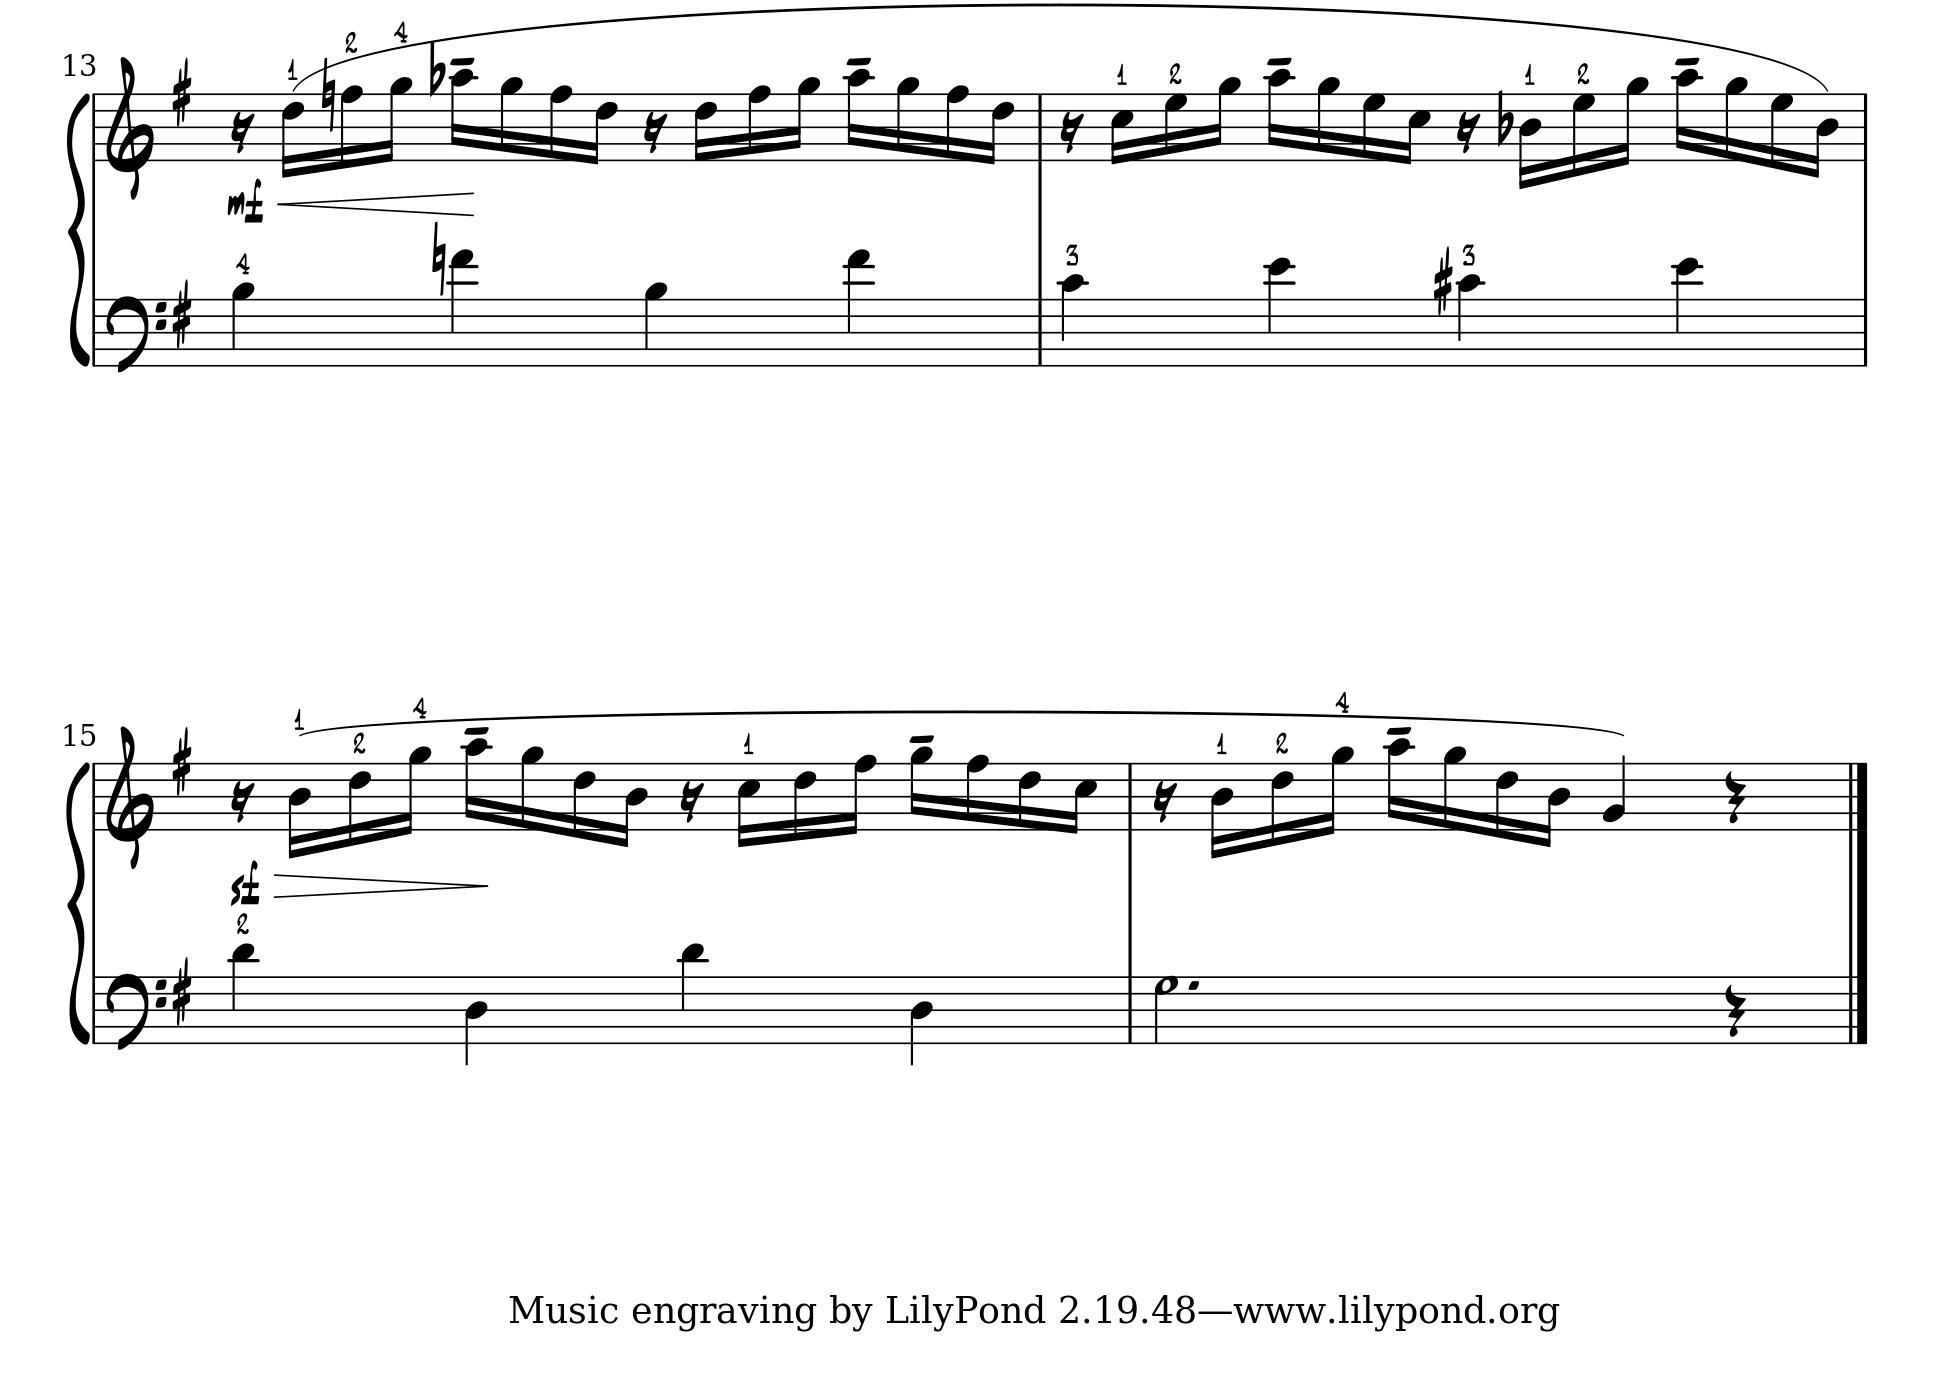1: (1116, 61, 1132, 88), (61, 720, 76, 748), (61, 49, 75, 78), (1522, 61, 1537, 85), (741, 730, 754, 753), (292, 706, 304, 730), (286, 57, 298, 79)
16_10: (448, 67, 477, 163), (844, 67, 873, 163), (462, 736, 490, 832), (1674, 66, 1701, 163), (1266, 67, 1293, 163), (1386, 736, 1413, 832)
16_4: (1809, 90, 1839, 178), (1540, 760, 1570, 849), (618, 760, 648, 847), (286, 759, 312, 859), (1209, 760, 1234, 859), (1518, 90, 1542, 192)
16_5: (1065, 760, 1098, 835), (733, 760, 760, 849), (1399, 91, 1431, 166), (1108, 91, 1134, 166)
16_6: (586, 91, 618, 166), (1269, 759, 1294, 849), (346, 760, 372, 849), (984, 91, 1014, 166), (279, 91, 304, 178), (792, 759, 817, 843), (1494, 759, 1519, 843), (691, 90, 718, 163), (571, 760, 595, 843), (1017, 759, 1041, 832)
16_7: (1570, 88, 1596, 180), (1768, 88, 1794, 174), (1162, 88, 1188, 163), (1360, 90, 1386, 163)
16_8: (843, 753, 876, 835), (339, 84, 364, 169), (547, 82, 573, 163), (745, 82, 771, 163), (943, 84, 969, 163), (964, 753, 990, 832)
16_9: (1615, 73, 1650, 169), (397, 744, 430, 837), (1320, 744, 1353, 837), (379, 75, 412, 163), (1209, 73, 1240, 163), (787, 75, 819, 163), (894, 73, 919, 163), (1723, 73, 1747, 165), (1441, 744, 1465, 835), (498, 73, 522, 163), (1315, 73, 1339, 163), (519, 742, 543, 832), (907, 744, 931, 832)
2: (1165, 58, 1185, 90), (234, 912, 252, 934), (351, 730, 367, 754), (1576, 60, 1591, 85), (343, 30, 358, 54), (1275, 730, 1290, 754), (1215, 730, 1228, 754)
2_7: (1153, 973, 1179, 1044)
3: (1461, 241, 1479, 267), (79, 49, 96, 76)
4: (1335, 688, 1353, 712), (412, 694, 427, 718), (393, 19, 409, 40)
4_10: (1057, 271, 1089, 370), (1455, 273, 1483, 369)
4_11: (678, 940, 706, 1047), (229, 942, 256, 1045)
4_12: (1671, 256, 1704, 369), (1263, 256, 1294, 370)
4_13: (843, 249, 873, 370), (448, 250, 475, 370)
4_2: (1602, 754, 1627, 832)
4_4: (909, 973, 934, 1065), (463, 973, 487, 1065)
4_9: (229, 280, 255, 367), (643, 280, 667, 369)
5: (79, 720, 96, 747)
Brace: (64, 760, 90, 1045), (66, 87, 90, 367)
Diminuendo_hairpin: (271, 871, 489, 898)
Fclef: (103, 292, 166, 376), (103, 970, 166, 1053)
Final_barline: (1843, 760, 1870, 829), (1842, 975, 1869, 1042)
Flat: (427, 39, 445, 100), (1495, 88, 1513, 147)
Gclef: (103, 52, 154, 202), (103, 723, 154, 870)
Marcato_above: (232, 250, 253, 276)
Natural: (429, 219, 448, 298), (318, 58, 337, 133)
Rests16: (678, 778, 705, 823), (229, 109, 255, 156), (642, 109, 667, 154), (1059, 109, 1084, 154), (1455, 109, 1480, 154), (1152, 778, 1177, 823), (229, 780, 255, 823)
Rests4: (1723, 768, 1747, 826), (1723, 982, 1747, 1039)
Sharp: (169, 55, 193, 127), (169, 277, 193, 349), (169, 724, 193, 796), (169, 955, 193, 1027), (1431, 247, 1453, 318)
Single_barline: (1032, 93, 1048, 159), (1857, 298, 1873, 364), (1122, 763, 1138, 829), (1122, 976, 1138, 1042), (1857, 93, 1872, 160), (1033, 298, 1048, 364), (88, 93, 100, 160), (88, 298, 100, 364), (88, 763, 100, 829), (88, 976, 100, 1041)
dot: (1188, 976, 1201, 991)
mf: (226, 177, 265, 225)
sf: (229, 859, 259, 907)
